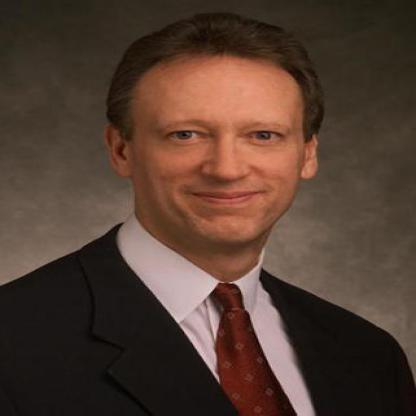face: (127, 28, 312, 249)
